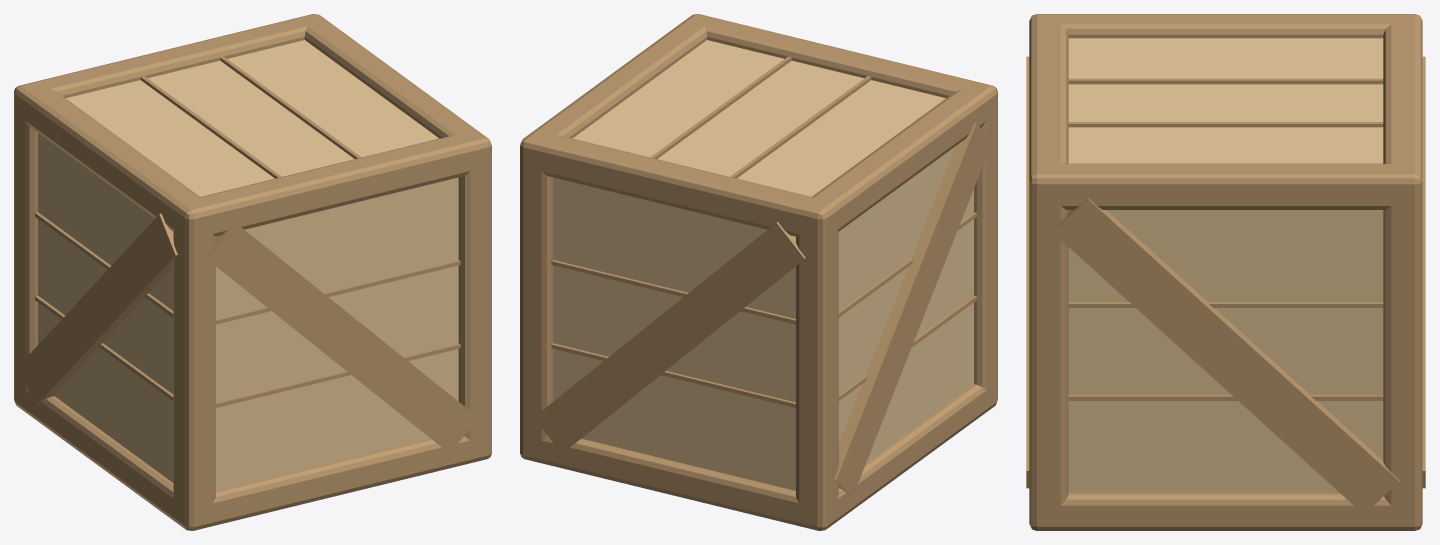
The model's file is crate_big.glb.
The picture shows the model from 3 angles, left to right: view 1: azimuth 30°, elevation 25°; view 2: azimuth 150°, elevation 25°; view 3: azimuth 270°, elevation 25°; orthographic projection. The views are drawn at different scales.
Visible parts, largest first — view 1: CrateBig; view 2: CrateBig; view 3: CrateBig.
Boxes of the visible parts, bbox=[...] form: CrateBig: bbox=[14, 14, 491, 530]; CrateBig: bbox=[520, 14, 997, 530]; CrateBig: bbox=[1026, 14, 1425, 530].
Size of the model in its own units: 1.02 by 1 by 1.01.
